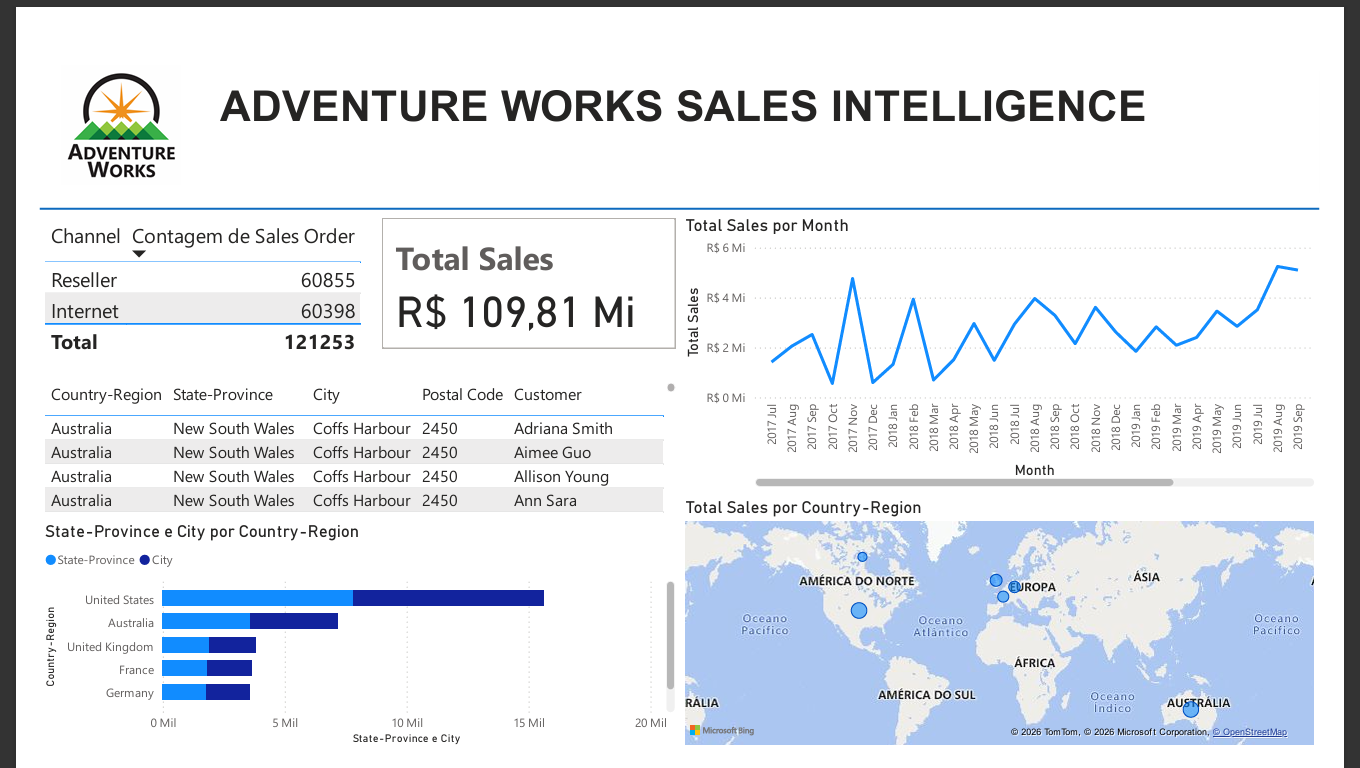

Layout of this report page (visuals, bound fields, positions):
{"tool":"powerbi","page":{"name":"Intro","canvas":[1280,720],"ordinal":0},"visuals":[{"type":"image","box":[16.9,16.9,128.7,154.1],"z":0},{"type":"shape","box":[0,171,1280,13.5],"z":1000},{"type":"textbox","box":[0,318,1280,150],"z":2000},{"type":"textbox","box":[175,45,963.9,98.4],"z":3000},{"type":"tableEx","fields":{"Values":["Sales Order.Channel","CountNonNull(Sales Order.Sales Order)"]},"box":[0,182.9,337.5,164.6],"z":4000},{"type":"tableEx","fields":{"Values":["Customer.Geography.Country-Region","Customer.Geography.State-Province","Customer.Geography.City","Customer.Geography.Postal Code","Customer.Geography.Customer"]},"box":[0,347.4,640.7,144],"z":5000},{"type":"barChart","fields":{"Category":["Customer.Country-Region"],"Y":["CountNonNull(Customer.State-Province)","CountNonNull(Customer.City)"]},"box":[0,490.8,640,227.7],"z":6000},{"type":"map","fields":{"Category":["Customer.Geography.Country-Region","Customer.Geography.State-Province","Customer.Geography.City","Customer.Geography.Postal Code","Customer.Geography.Customer"],"Size":["Sales.Total Sales"]},"box":[640.7,467.3,639.2,252.7],"z":7000},{"type":"cardVisual","fields":{"Data":["Sales.Total Sales"]},"box":[337.5,177.9,302.5,139.6],"z":8000},{"type":"lineChart","fields":{"Category":["Date.Month"],"Y":["Sales.Total Sales"]},"box":[640.7,183.7,639.2,277.7],"z":9000}]}

Visuals, with their boxes in screenshot pixels (x1, y1, x2, y2), scaled from the page's 1280x720 canvas onto the 1360x768 screenshot:
image: {"left": 18, "top": 18, "right": 155, "bottom": 182}
shape: {"left": 0, "top": 182, "right": 1359, "bottom": 197}
textbox: {"left": 0, "top": 339, "right": 1359, "bottom": 499}
textbox: {"left": 186, "top": 48, "right": 1210, "bottom": 153}
tableEx - Sales Order.Channel x CountNonNull(Sales Order.Sales Order): {"left": 0, "top": 195, "right": 359, "bottom": 371}
tableEx - Customer.Geography.Country-Region x Customer.Geography.State-Province: {"left": 0, "top": 371, "right": 681, "bottom": 524}
barChart - Customer.Country-Region x CountNonNull(Customer.State-Province): {"left": 0, "top": 524, "right": 680, "bottom": 766}
map - Customer.Geography.Country-Region x Customer.Geography.State-Province: {"left": 681, "top": 498, "right": 1359, "bottom": 767}
cardVisual - Sales.Total Sales: {"left": 359, "top": 190, "right": 680, "bottom": 339}
lineChart - Date.Month x Sales.Total Sales: {"left": 681, "top": 196, "right": 1359, "bottom": 492}
